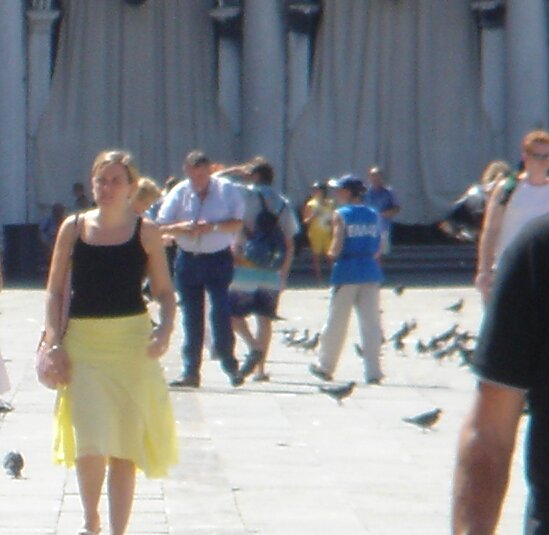person: (35, 144, 178, 535), (455, 191, 549, 535), (163, 152, 249, 395), (315, 174, 396, 387)
